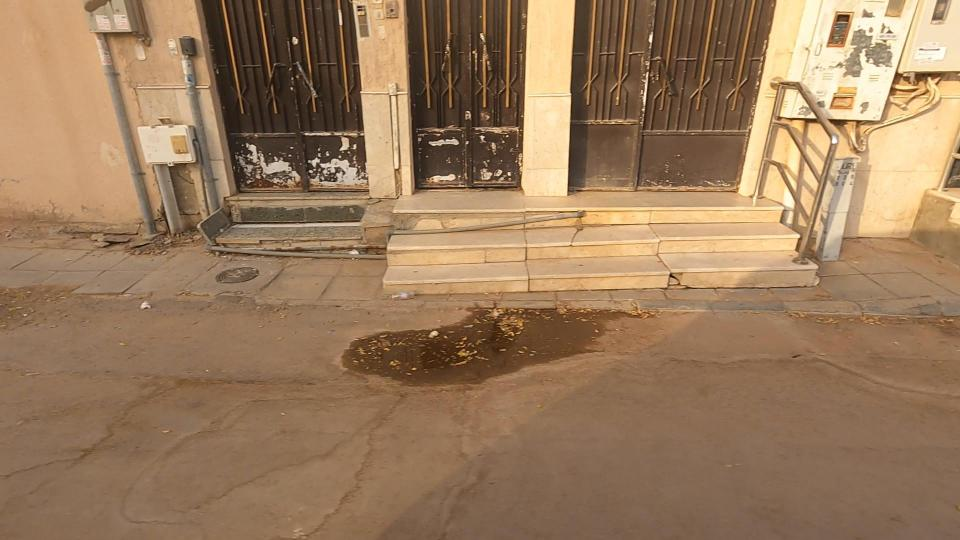GARBAGE: (345, 267, 460, 324), (91, 279, 196, 332), (325, 229, 376, 282)
